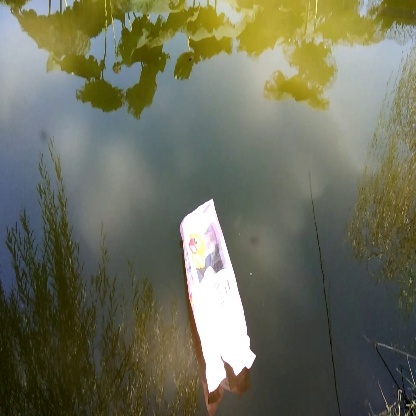plastic-bag: (174, 193, 266, 402)
